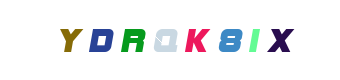1: (183, 0, 263, 80)
8: (155, 0, 235, 80)
D: (93, 0, 173, 80)
K: (142, 0, 222, 80)
Q: (130, 0, 210, 80)
R: (129, 0, 209, 80)
X: (192, 0, 272, 80)
Y: (30, 0, 110, 80)
